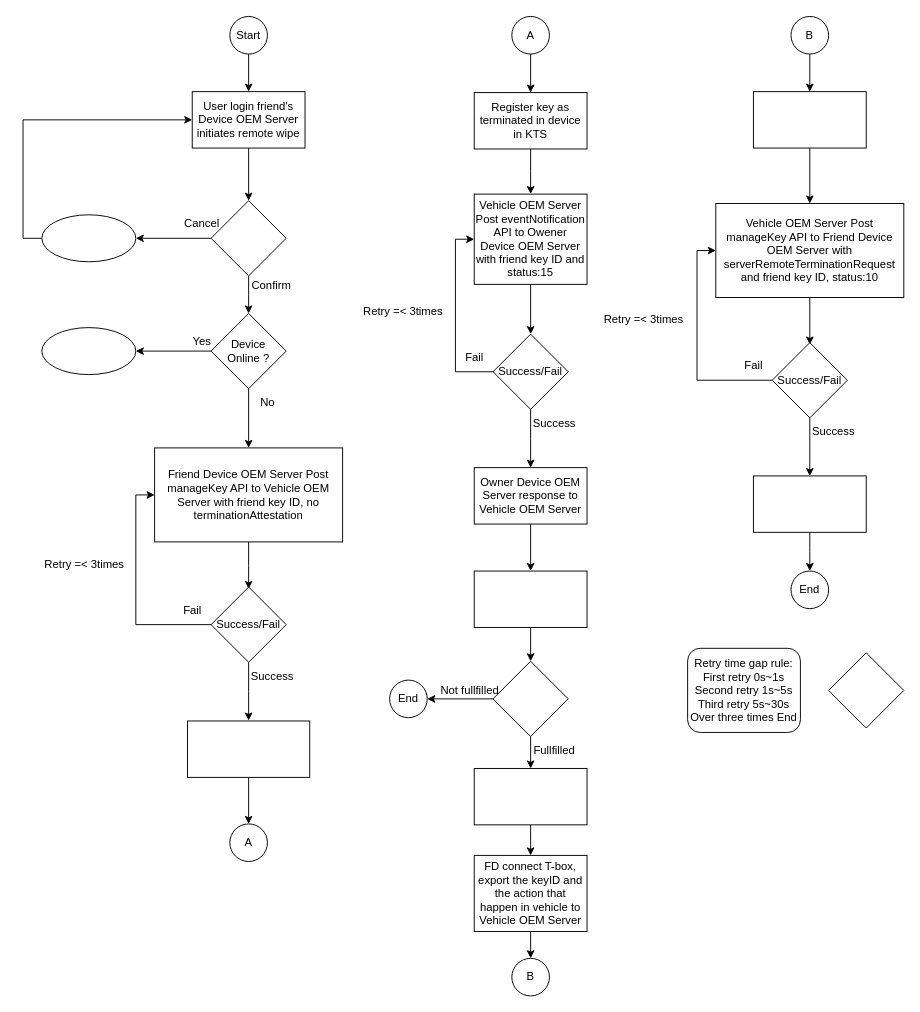
The diagram is 920 pixels wide and 1012 high, and some of its shapes have lost their labels. Here are the shapes that lost their labels. From the top down, the centre of each, then its label:
(809,119): Register key as terminated in vehicle in KTS
(88,238): Back to iCloud
(248,238): Confirm/Cancel
(88,351): Go to REV_200
(809,503): Friend Device OEM Server response to Vehicle OEM Server
(530,598): Vehicle OEM Server request termination to FD with friend key ID
(530,698): Termination conditions
(866,690): All square should log
(248,748): Vehicle OEM Server acknowledging deletion response to Friend Device OEM Server
(530,796): FD command delete slot digital key
